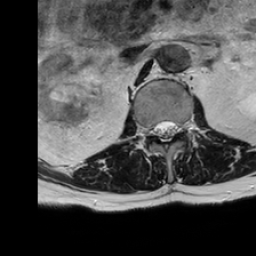CCS_normal: (162, 112, 170, 155)
LFS_normal: (178, 113, 186, 142)
LLS_normal: (170, 112, 178, 145)
RFS_normal: (144, 115, 153, 145)
RLS_normal: (153, 114, 162, 144)
